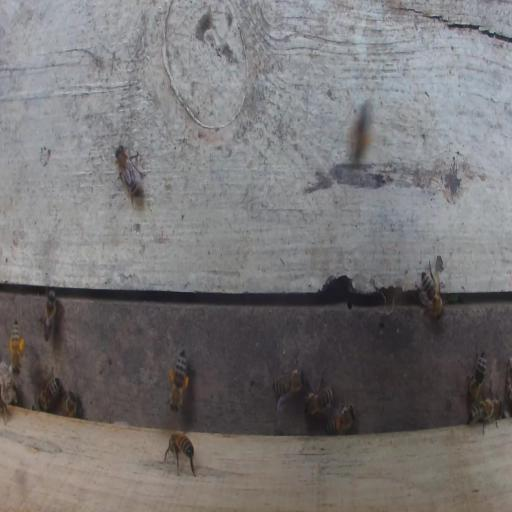nonpollenbee: (114, 143, 149, 205), (273, 360, 305, 411), (418, 261, 444, 322), (163, 429, 196, 477), (468, 395, 504, 434), (304, 375, 334, 417), (37, 287, 57, 343), (467, 348, 486, 404), (325, 402, 355, 435), (38, 371, 61, 412), (1, 365, 15, 424), (63, 390, 82, 418)
pollenbee: (170, 349, 190, 414), (10, 319, 26, 377)
